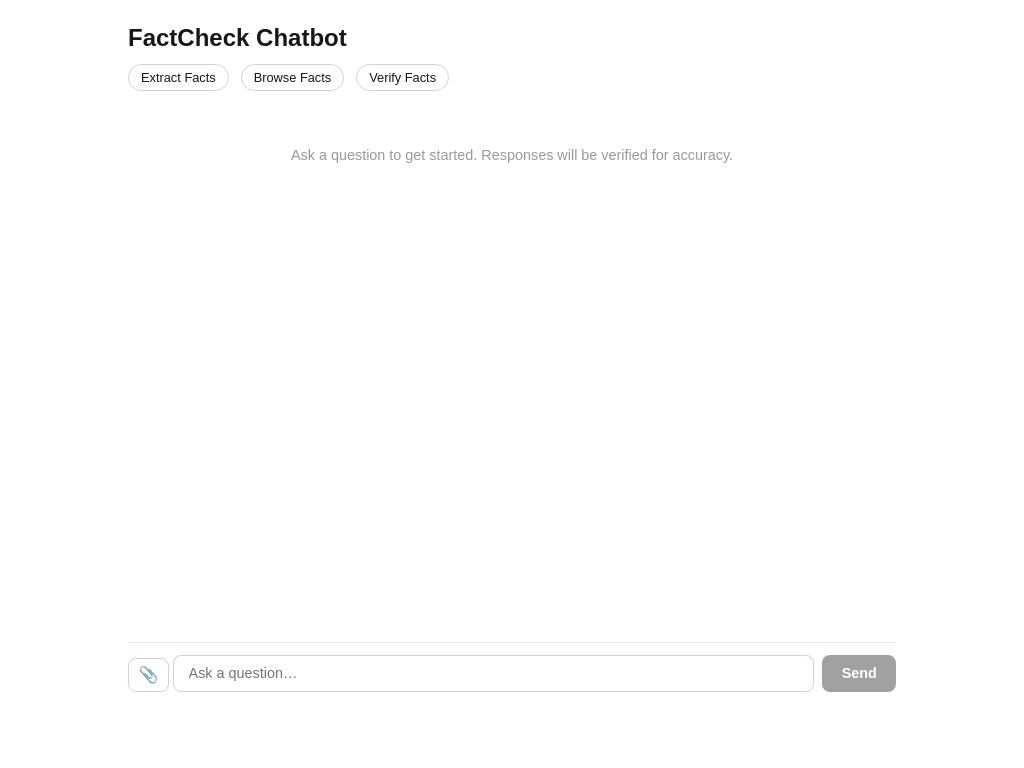
Test: Chatbot UI – verification status display › displays an Unverified label on assistant response with unverified status
Type "Is the moon made of cheese?" into the field named "chat input" at {"x": 494, "y": 673}, box [173,655,814,692]
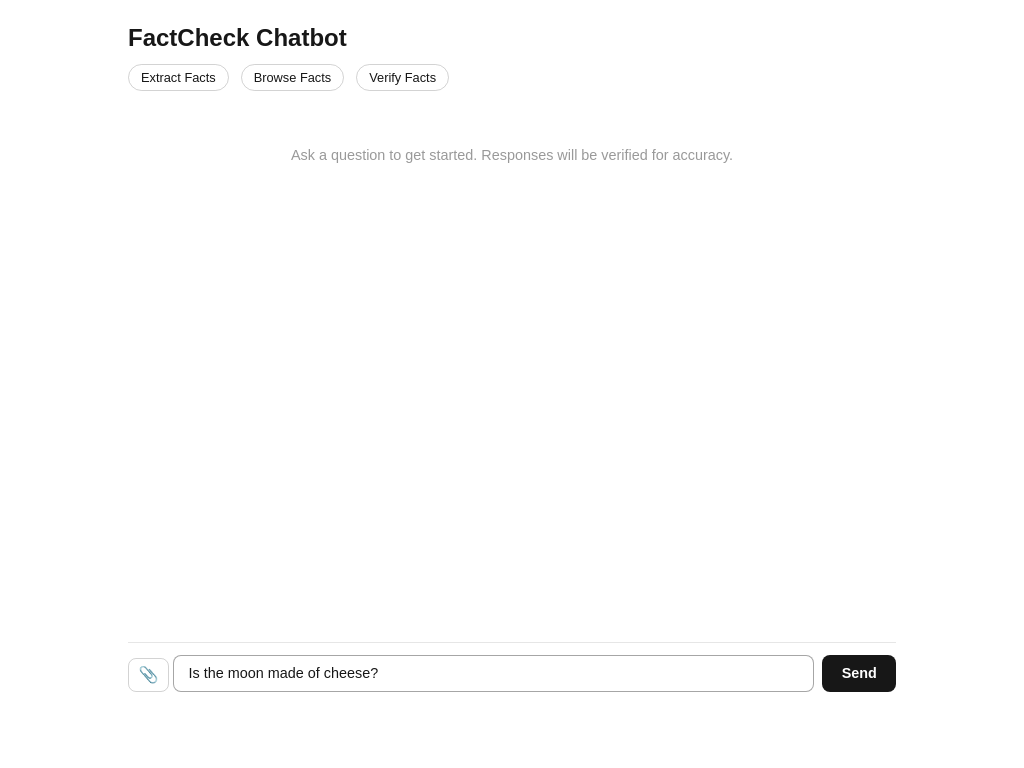
Click the button with aria-label "send message" at {"x": 859, "y": 673}, box [822,655,896,692]
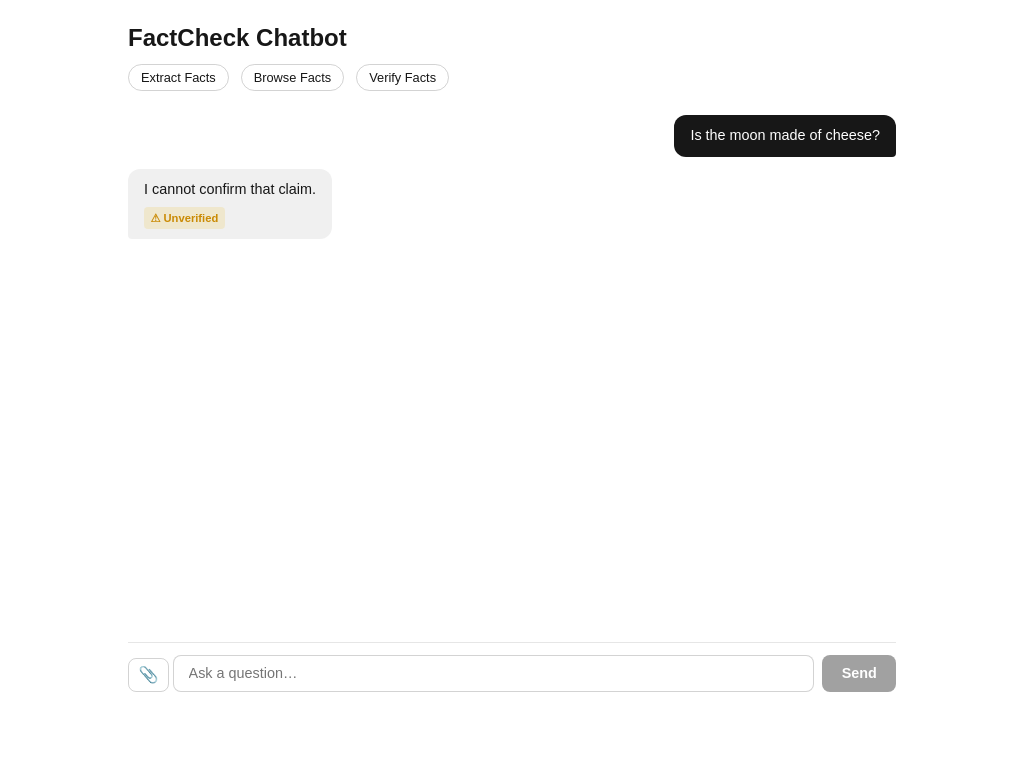
Check: the picture "⚠ Unverified" is shown, box [144,207,225,229]
